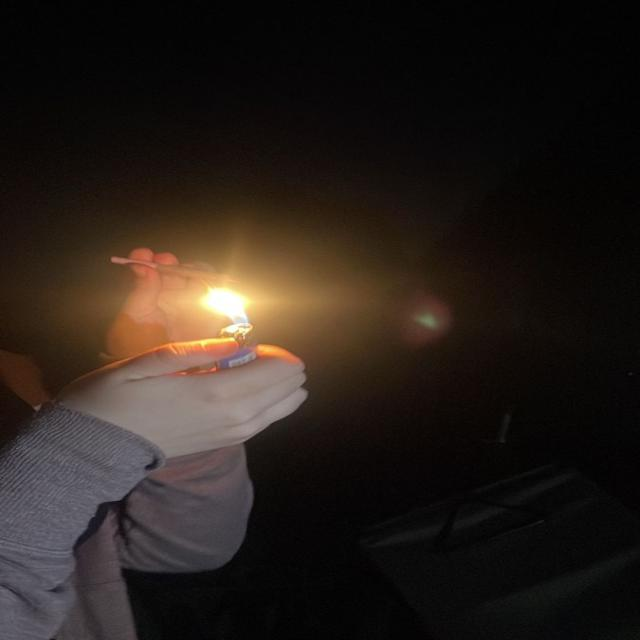fire: (197, 284, 256, 325)
